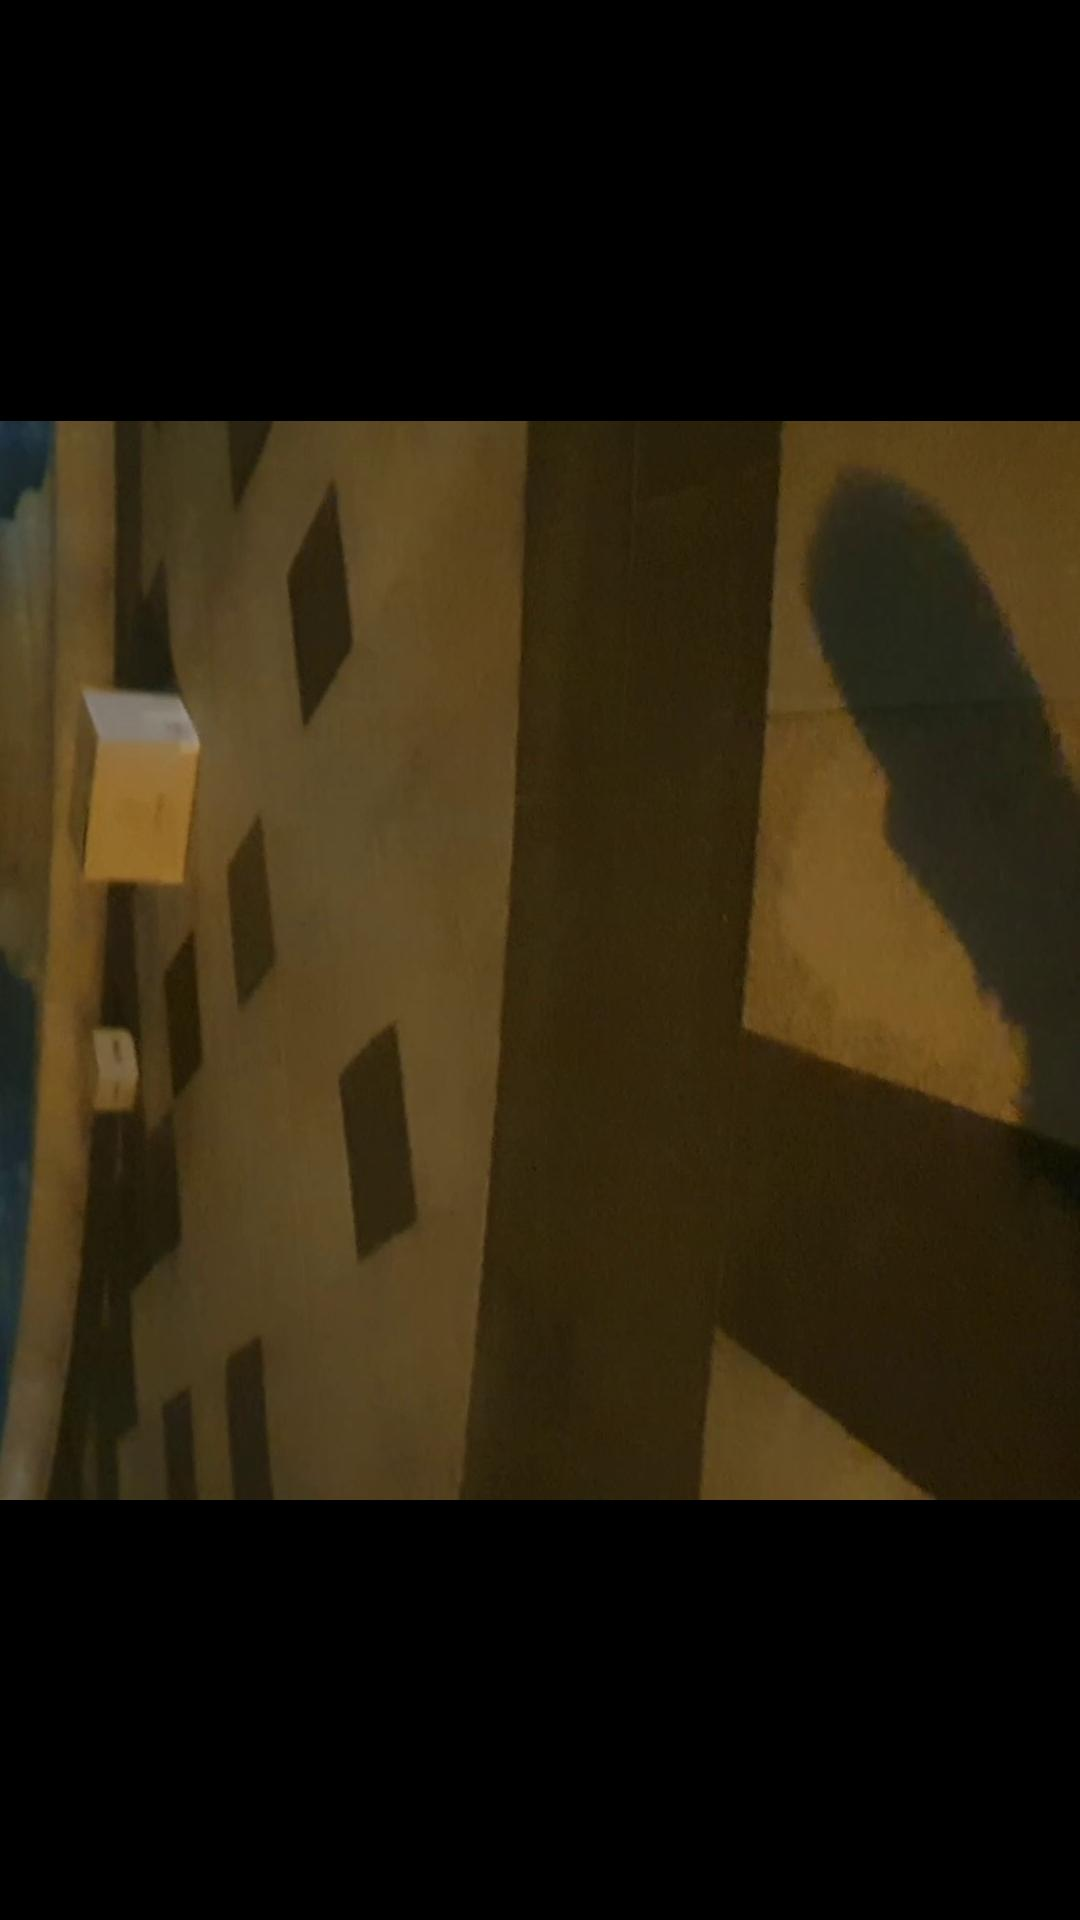Box: (55, 669, 215, 884), (73, 998, 179, 1131)
